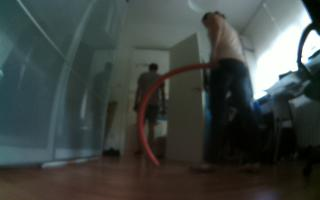person: (189, 10, 268, 176), (132, 52, 166, 163)
